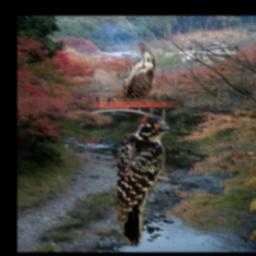Woodpecker: (117, 113, 169, 248), (116, 43, 155, 99)
